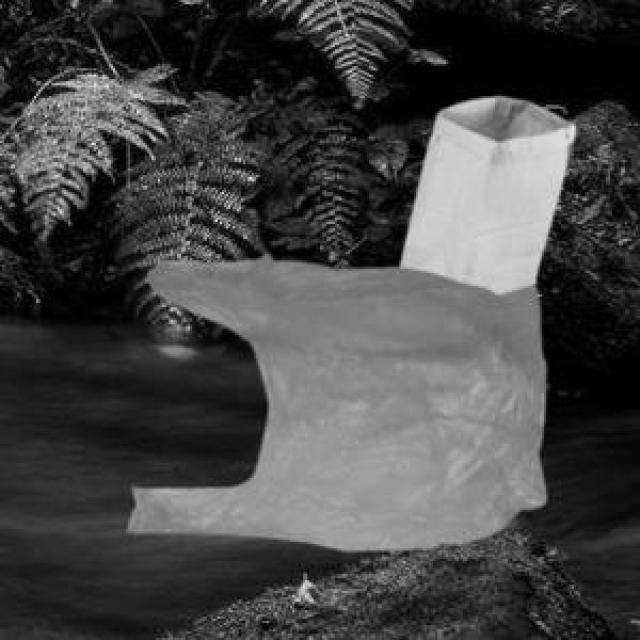paper: (397, 92, 572, 292)
